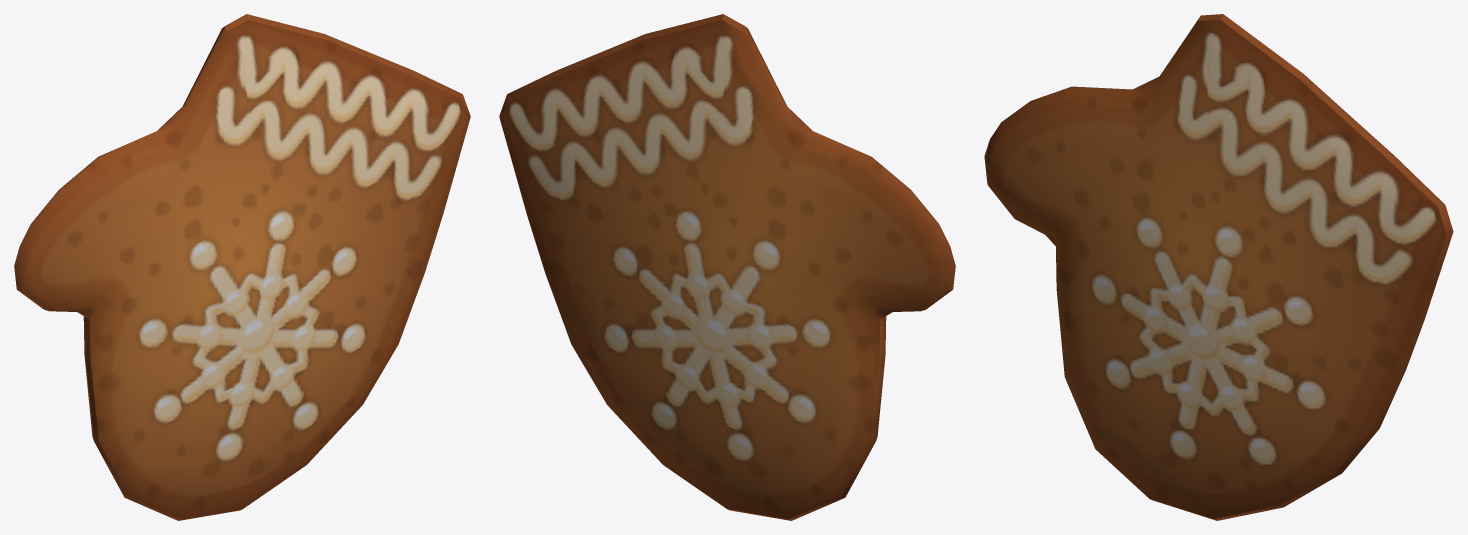
3 views of the same model, side by side, from view 1: azimuth 30°, elevation 25°; view 2: azimuth 150°, elevation 25°; view 3: azimuth 330°, elevation 25° (orthographic). The views are drawn at different scales.
Visible parts, largest first — view 1: V5_Christmas Collection24_V5_Christmas Collection_0; view 2: V5_Christmas Collection24_V5_Christmas Collection_0; view 3: V5_Christmas Collection24_V5_Christmas Collection_0.
Part boxes in pixels (x1=…): V5_Christmas Collection24_V5_Christmas Collection_0: x1=14, y1=14, x2=470, y2=520; V5_Christmas Collection24_V5_Christmas Collection_0: x1=499, y1=14, x2=955, y2=520; V5_Christmas Collection24_V5_Christmas Collection_0: x1=984, y1=14, x2=1453, y2=520.
Bounding box in the file's own units: 53.55 × 55.46 × 6.9.
1 material, 1 textured.
